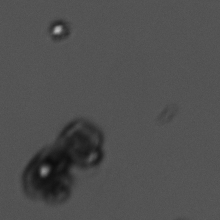Dead Cell: (14, 145, 80, 204), (52, 115, 105, 169)
Living Cell: (47, 18, 71, 43)
